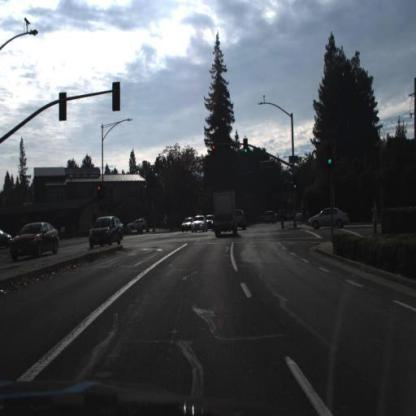biker: (280, 207, 288, 230)
car: (11, 225, 60, 263), (210, 186, 243, 242), (88, 213, 124, 246), (307, 207, 347, 231), (127, 216, 151, 237), (235, 208, 249, 232), (190, 215, 207, 234), (263, 208, 278, 226), (206, 211, 216, 235), (182, 217, 196, 234), (293, 209, 306, 227), (115, 217, 127, 233)
pedestrian: (369, 197, 385, 238)
trafficLight-Green: (325, 147, 336, 177), (325, 146, 335, 177), (291, 170, 301, 195), (243, 136, 251, 161), (244, 140, 250, 158), (293, 174, 298, 190)
trafficLight-Red: (211, 142, 218, 161)
trafficLight-RedLeft: (96, 181, 106, 208), (98, 181, 103, 197), (212, 145, 217, 159)
truck: (213, 188, 240, 241)
